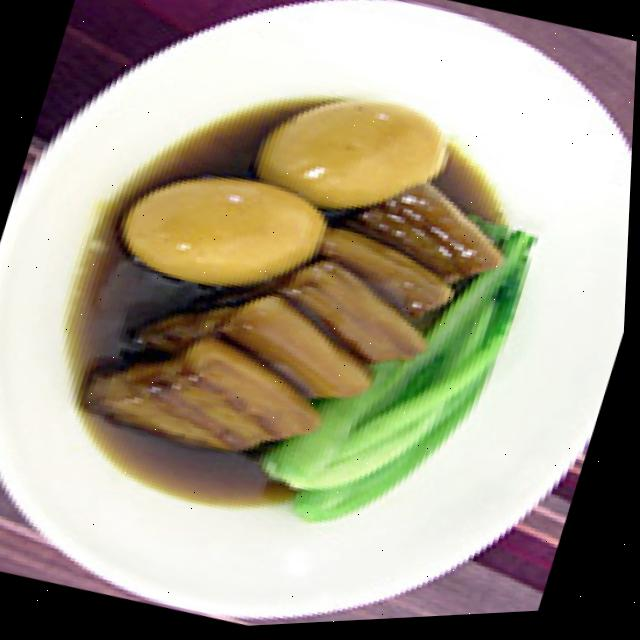猪肉菜式: (19, 34, 599, 595)
